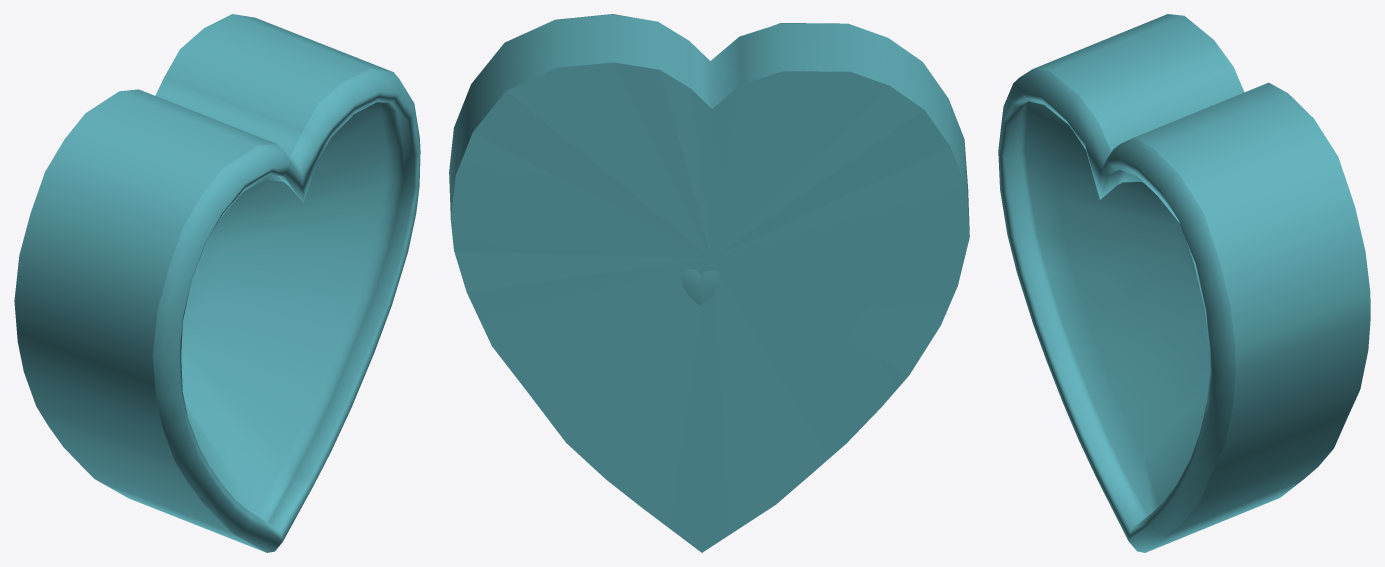
The model's file is TR2_8shapes_heart_Classic_Metal.001 3.glb.
3 views of the same model, side by side, from view 1: azimuth 30°, elevation 25°; view 2: azimuth 150°, elevation 25°; view 3: azimuth 270°, elevation 25° (orthographic). The views are drawn at different scales.
Parts seen in each view (by area): view 1: TR2_8shapes_heart_Classic_Metal.001; view 2: TR2_8shapes_heart_Classic_Metal.001; view 3: TR2_8shapes_heart_Classic_Metal.001.
Boxes of the visible parts, x1,y1,x2,y2 form: TR2_8shapes_heart_Classic_Metal.001: [14, 14, 420, 552]; TR2_8shapes_heart_Classic_Metal.001: [449, 14, 969, 552]; TR2_8shapes_heart_Classic_Metal.001: [998, 14, 1370, 552].
Size of the model in its own units: 0.5694 by 0.5717 by 0.4156.
